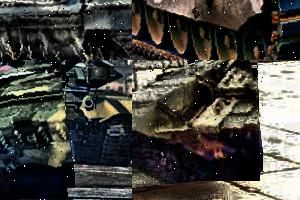tanks: (133, 61, 263, 185), (1, 61, 133, 166), (1, 61, 76, 198), (133, 1, 300, 61), (1, 1, 133, 59)
